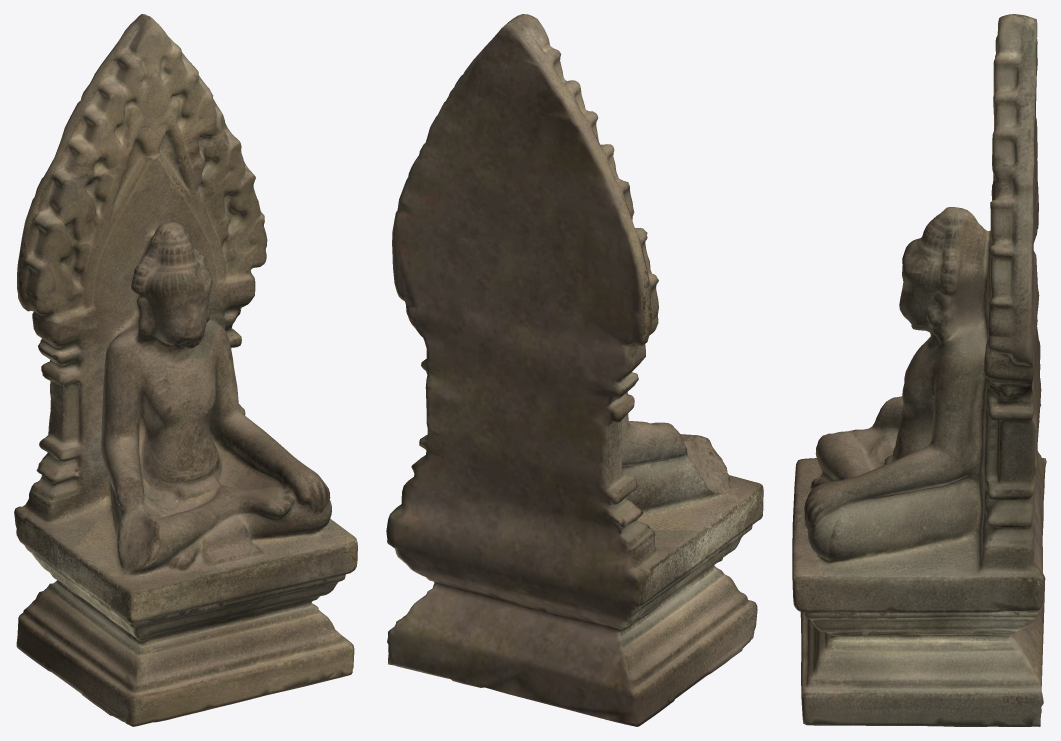
The model's file is 18_thanphuonghuong_kubera_final.glb.
3 renders of one model, left to right at view 1: azimuth 30°, elevation 25°; view 2: azimuth 150°, elevation 25°; view 3: azimuth 270°, elevation 25°, orthographic. The views are drawn at different scales.
Bounding box in the file's own units: 0.3626 × 0.9006 × 0.3165.
Materials: 1 (1 with a texture image).
